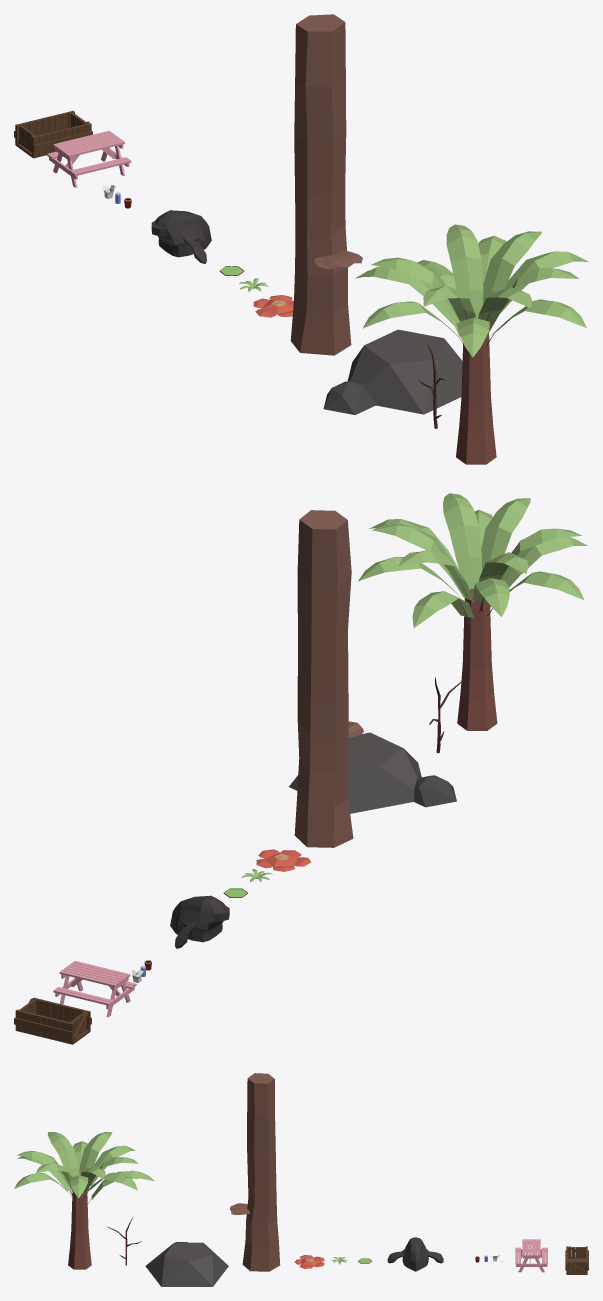
File: 171 Model Master File.fbx
3 renders of one model, top to bottom at view 1: azimuth 30°, elevation 25°; view 2: azimuth 150°, elevation 25°; view 3: azimuth 270°, elevation 25°, orthographic. The views are drawn at different scales.
Visible parts, largest first — view 1: bigTree, Palm, ROCK.001, Dugong, wood, Table, ROCK, Rafflesia, shroom1; view 2: bigTree, Palm, ROCK.001, wood, Dugong, Table, ROCK, Rafflesia; view 3: bigTree, Palm, ROCK.001, Dugong, Table, wood, Rafflesia.
Boxes of the visible parts, <box> form: bigTree: <box>290,14,351,355</box>; Palm: <box>355,224,588,464</box>; ROCK.001: <box>347,329,462,414</box>; Dugong: <box>151,210,211,263</box>; wood: <box>14,111,92,158</box>; Table: <box>47,130,131,187</box>; ROCK: <box>323,381,375,414</box>; Rafflesia: <box>253,295,293,317</box>; shroom1: <box>314,250,362,269</box>; bigTree: <box>294,510,353,847</box>; Palm: <box>358,493,587,730</box>; ROCK.001: <box>289,732,421,813</box>; wood: <box>14,997,91,1044</box>; Dugong: <box>170,895,229,948</box>; Table: <box>53,961,136,1017</box>; ROCK: <box>413,775,456,807</box>; Rafflesia: <box>256,849,310,871</box>; bigTree: <box>242,1073,280,1271</box>; Palm: <box>14,1132,154,1269</box>; ROCK.001: <box>145,1242,228,1286</box>; Dugong: <box>387,1237,443,1271</box>; Table: <box>515,1239,547,1272</box>; wood: <box>565,1246,588,1274</box>; Rafflesia: <box>294,1255,324,1268</box>.
Bounding box in the file's own units: 1103 × 1521 × 4222.
